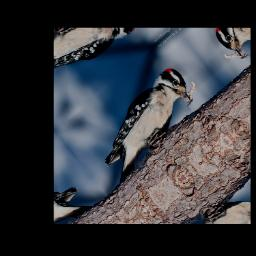Woodpecker: (83, 63, 207, 182)
